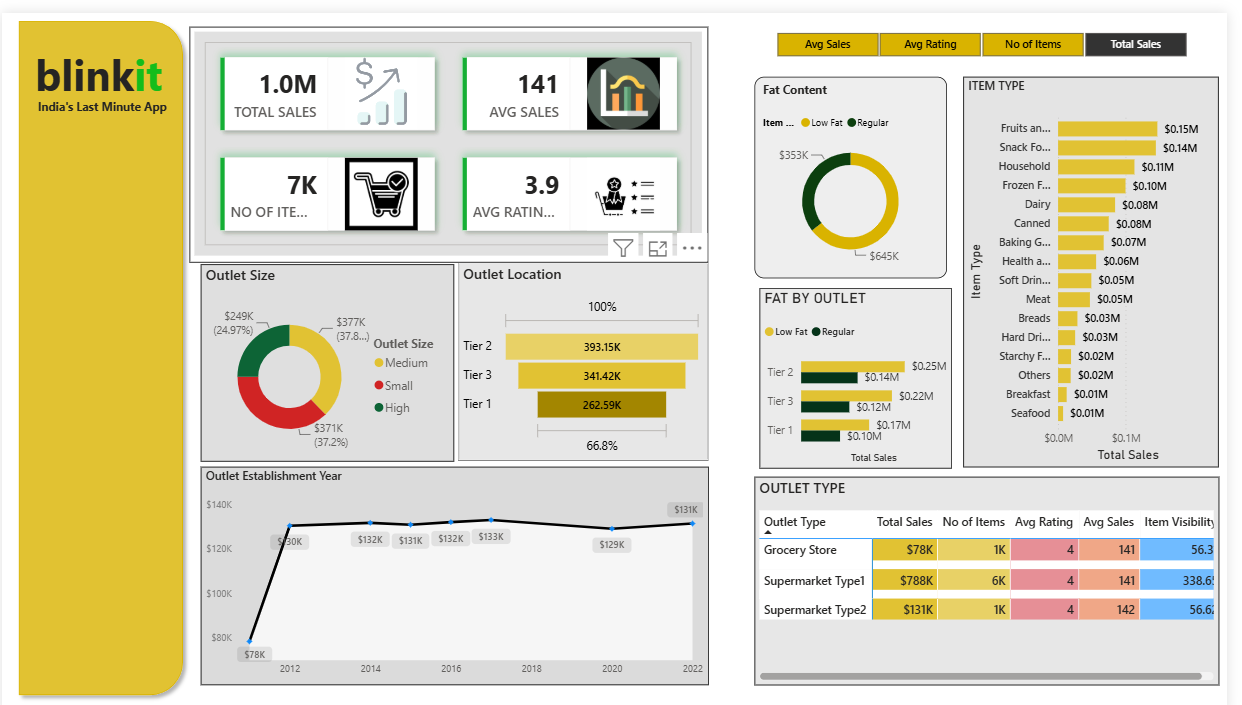

What the dashboard file says about the page in this screenshot:
{"tool":"powerbi","page":{"name":"Page 1","canvas":[1400,800],"ordinal":0},"visuals":[{"type":"shape","box":[10,0,205.7,788.6],"z":0},{"type":"textbox","box":[21.4,32.9,178.6,80],"z":1000},{"type":"textbox","box":[35.7,92.9,844.3,112.9],"z":2000},{"type":"cardVisual","fields":{"Data":["BlinkIT Grocery Data.Total Sales","BlinkIT Grocery Data.Avg Sales","BlinkIT Grocery Data.No of Items","BlinkIT Grocery Data.Avg Rating"]},"box":[214.5,16.1,592.5,269.4],"z":3000},{"type":"donutChart","title":" Fat Content","fields":{"Y":["BlinkIT Grocery Data.Total Sales"],"Category":["BlinkIT Grocery Data.Item Fat Content"]},"box":[860.6,72.4,220,230],"z":4000},{"type":"slicer","fields":{"Values":["Metrics.Metrics"]},"box":[860.6,16.1,517.4,40.2],"z":5000},{"type":"textbox","box":[1080,56,221,230],"z":6000},{"type":"clusteredBarChart","title":"FAT BY OUTLET","fields":{"Y":["BlinkIT Grocery Data.Total Sales"],"Category":["BlinkIT Grocery Data.Outlet Location Type"],"Series":["BlinkIT Grocery Data.Item Fat Content"]},"box":[866,313.7,219.8,206.4],"z":7000},{"type":"barChart","title":"ITEM TYPE","fields":{"Y":["BlinkIT Grocery Data.Total Sales"],"Category":["BlinkIT Grocery Data.Item Type"]},"box":[1099.2,72.4,292.2,446.4],"z":8000},{"type":"lineChart","title":"Outlet Establishment Year","fields":{"Y":["BlinkIT Grocery Data.Total Sales"],"Category":["BlinkIT Grocery Data.Outlet Establishment Year"]},"box":[226.5,518.8,580.4,249.3],"z":9000},{"type":"donutChart","title":"Outlet Size","fields":{"Y":["BlinkIT Grocery Data.Total Sales"],"Category":["BlinkIT Grocery Data.Outlet Size"]},"box":[226.5,286.9,289.5,225.2],"z":10000},{"type":"funnel","title":" Outlet Location ","fields":{"Y":["Sum(BlinkIT Grocery Data.Sales)"],"Category":["BlinkIT Grocery Data.Outlet Location Type"]},"box":[521.5,285.5,285.5,225.2],"z":11000},{"type":"pivotTable","title":"OUTLET TYPE","fields":{"Rows":["BlinkIT Grocery Data.Outlet Type"],"Values":["BlinkIT Grocery Data.Total Sales","BlinkIT Grocery Data.No of Items","BlinkIT Grocery Data.Avg Rating","BlinkIT Grocery Data.Avg Sales","Sum(BlinkIT Grocery Data.Item Visibility)"]},"box":[860.6,529.5,530.8,238.6],"z":12000}]}

Visuals, with their boxes in screenshot pixels (x1, y1, x2, y2), scaled from the page's 1400x800 canvas onto the 1242x705 screenshot:
shape: 9/0/191/695
textbox: 19/29/177/99
textbox: 32/82/781/181
cardVisual - BlinkIT Grocery Data.Total Sales x BlinkIT Grocery Data.Avg Sales: 190/14/716/252
" Fat Content" donutChart: 763/64/959/266
slicer - Metrics.Metrics: 763/14/1222/50
textbox: 958/49/1154/252
"FAT BY OUTLET" clusteredBarChart: 768/276/963/458
"ITEM TYPE" barChart: 975/64/1234/457
"Outlet Establishment Year" lineChart: 201/457/716/677
"Outlet Size" donutChart: 201/253/458/451
" Outlet Location " funnel: 463/252/716/450
"OUTLET TYPE" pivotTable: 763/467/1234/677
